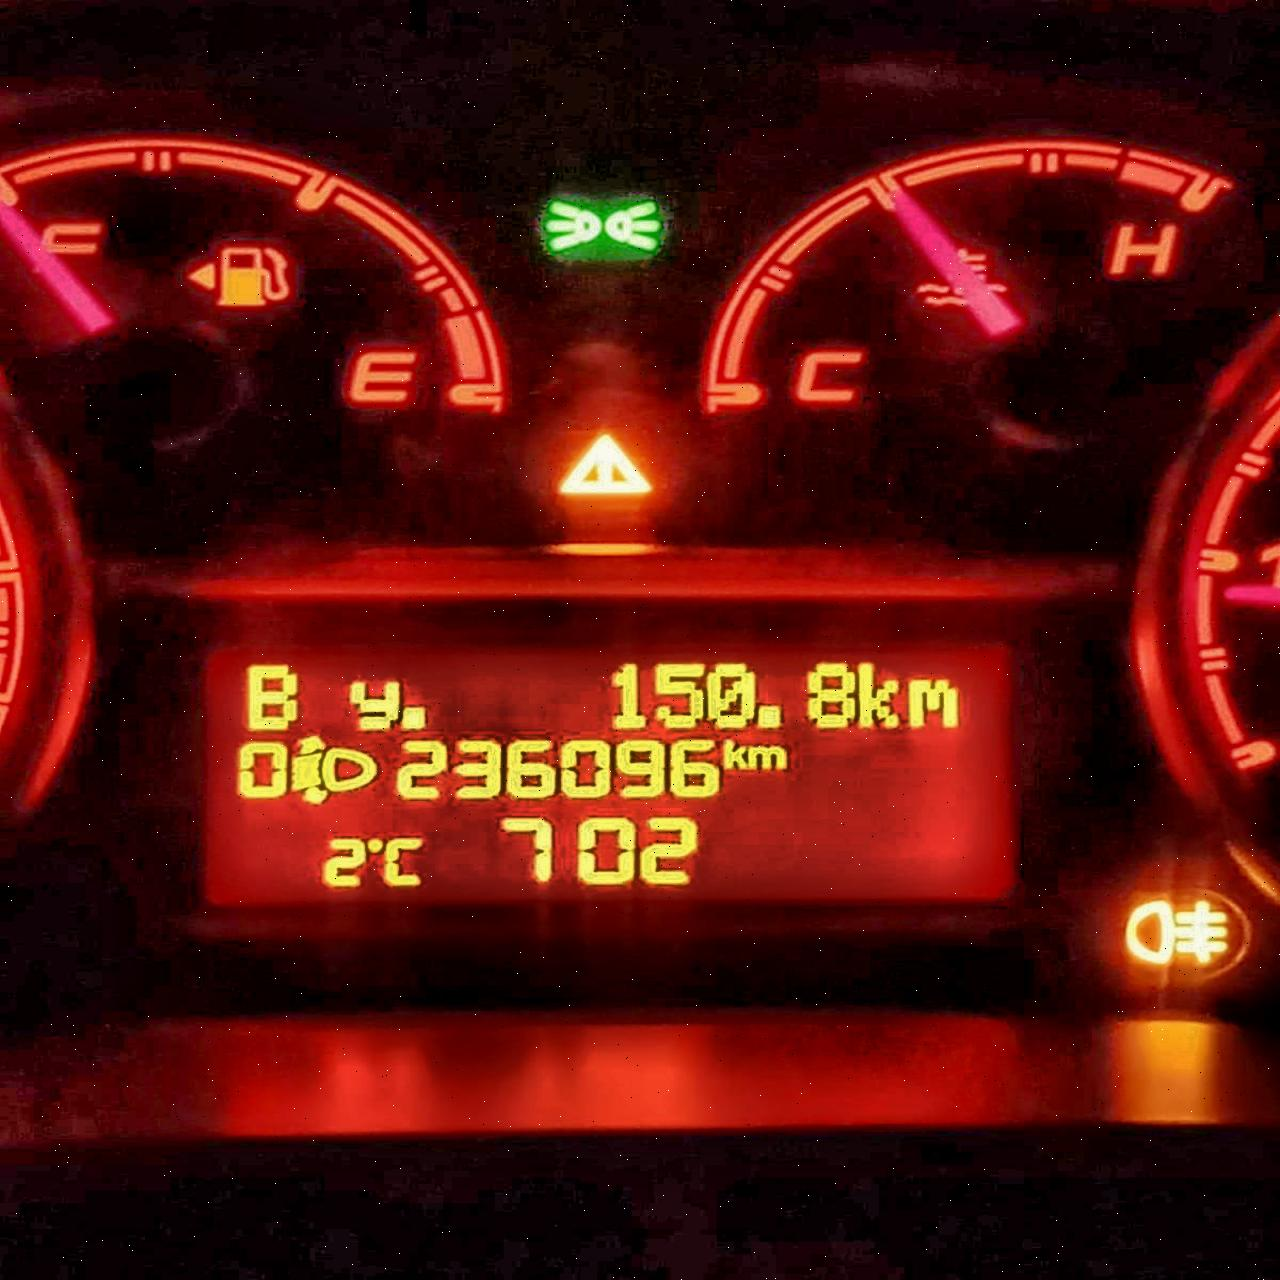-: (754, 704, 783, 729), (400, 706, 427, 731)
0: (576, 816, 636, 885), (703, 660, 756, 729), (557, 737, 612, 799), (234, 740, 291, 798)
1: (608, 661, 648, 730)
2: (638, 815, 699, 885), (393, 738, 450, 799), (320, 835, 367, 887)
3: (451, 738, 502, 801)
5: (649, 660, 706, 731)
6: (503, 737, 557, 799), (669, 737, 722, 799)
7: (496, 815, 554, 884)
8: (803, 660, 857, 730)
9: (613, 737, 667, 799)
X: (244, 660, 301, 729), (856, 661, 901, 729), (905, 676, 964, 729), (346, 678, 401, 731), (381, 835, 424, 888), (749, 744, 790, 770), (720, 738, 748, 771)
odometer: (197, 636, 1023, 910)
